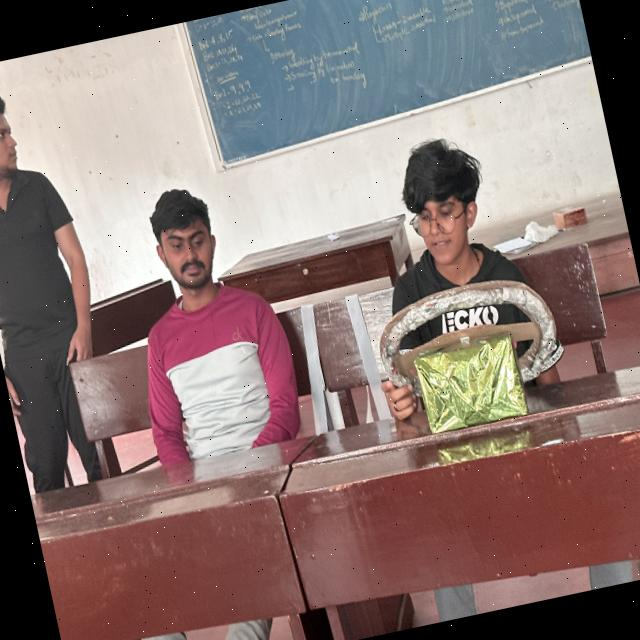Helmet: (367, 224, 582, 466), (0, 139, 134, 504), (130, 276, 320, 510)
